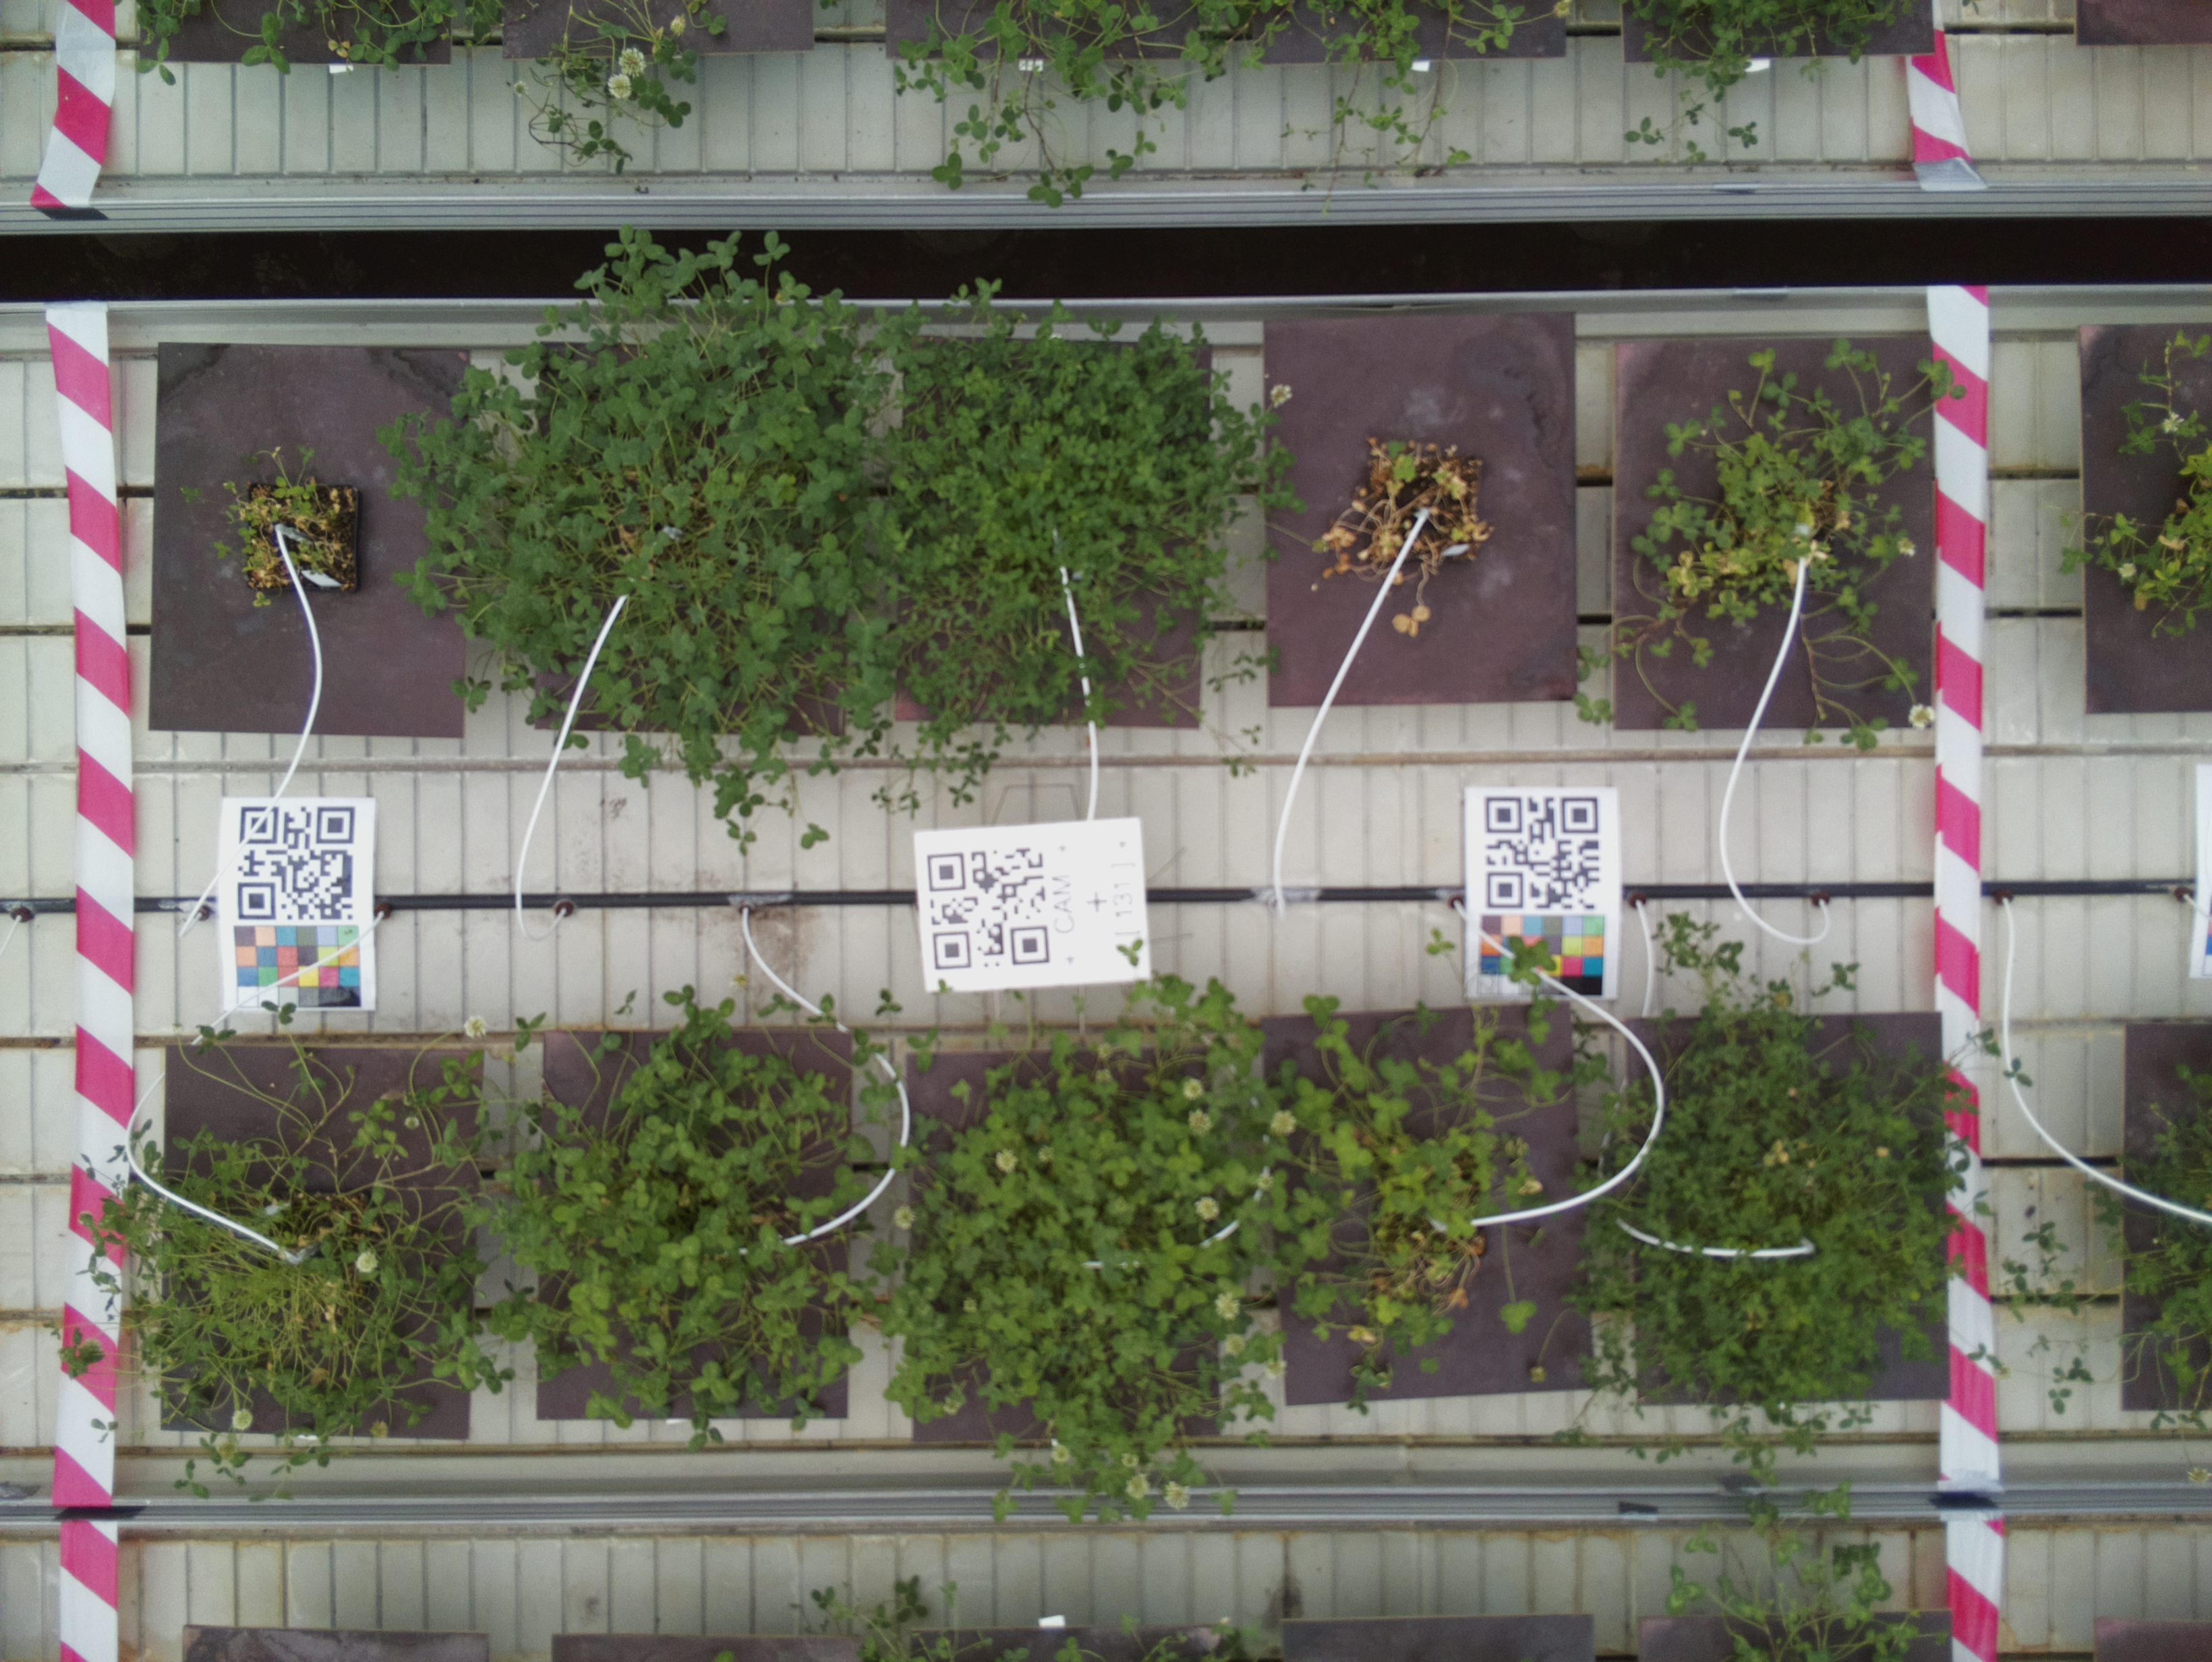POT: (1266, 1018, 1603, 1400), (539, 340, 857, 737), (164, 1046, 475, 1440), (1618, 339, 1931, 726), (1631, 1021, 1948, 1400), (545, 1030, 850, 1423), (162, 344, 466, 738), (908, 1058, 1220, 1437), (904, 333, 1201, 730), (1266, 318, 1571, 700)
QRCODE: (911, 819, 1156, 995)
QRCOLOR: (216, 796, 377, 1013), (1463, 789, 1618, 1009)
